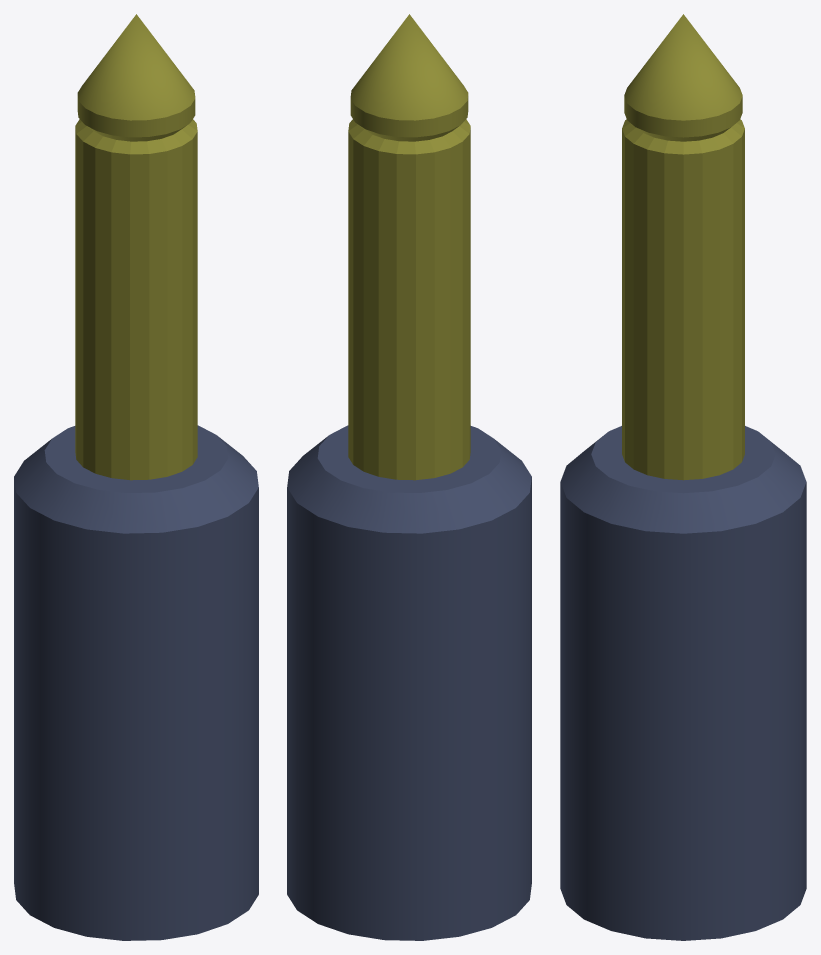
File: Jack.fbx
3 views of the same model, side by side, from view 1: azimuth 30°, elevation 25°; view 2: azimuth 150°, elevation 25°; view 3: azimuth 270°, elevation 25° (orthographic).
Parts seen in each view (by area): view 1: Jack; view 2: Jack; view 3: Jack.
Boxes of the visible parts, bbox=[...] form: Jack: bbox=[14, 14, 258, 940]; Jack: bbox=[287, 14, 531, 940]; Jack: bbox=[560, 14, 806, 940].
Bounding box in the file's own units: 2 × 7.85 × 2.
